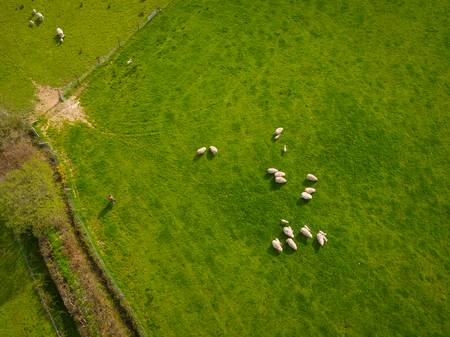sheep: (297, 226, 313, 239), (52, 26, 67, 39), (104, 192, 118, 205), (315, 233, 328, 247), (286, 237, 299, 250), (269, 239, 283, 251), (208, 144, 220, 157), (272, 125, 287, 135), (304, 172, 319, 182), (281, 225, 294, 236), (273, 176, 288, 185), (299, 192, 314, 201), (195, 145, 207, 156), (265, 165, 279, 174), (304, 186, 318, 194), (273, 170, 286, 178), (34, 12, 45, 21), (279, 217, 290, 224), (27, 18, 36, 26), (281, 144, 289, 153), (271, 133, 280, 140)
